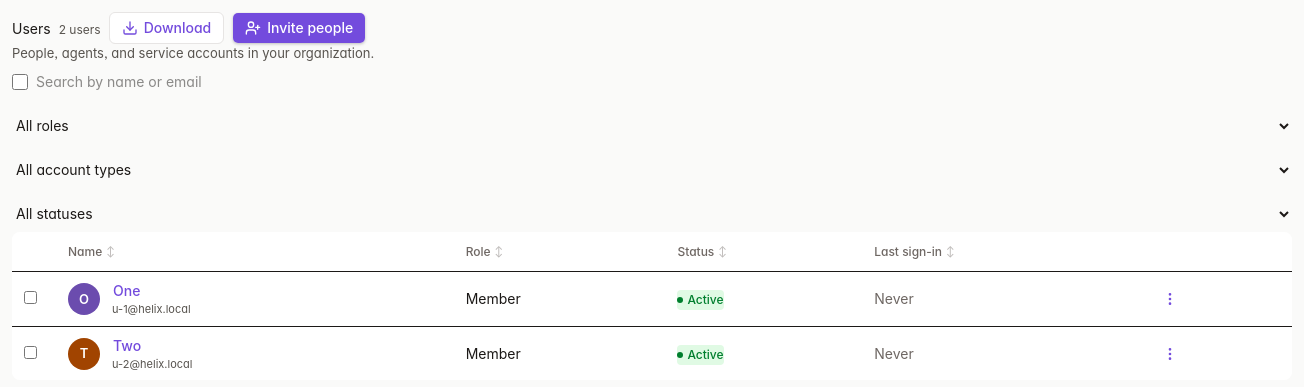
Test: AdminUsers › selects every listed user from the header checkbox
Click the checkbox named "Select all users". click: (20, 82)
box: x1=12 y1=74 x2=28 y2=90
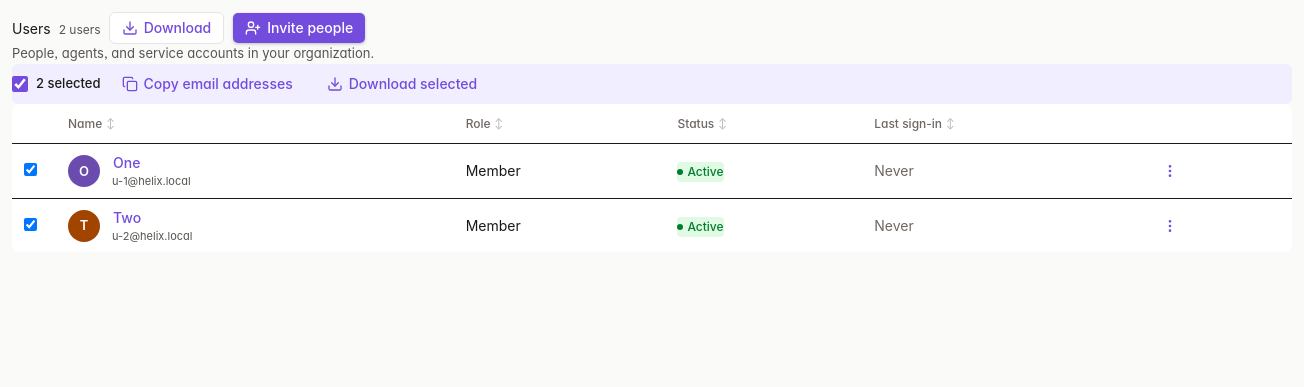
expect the text "2 selected" is shown: met, box x1=36 y1=74 x2=100 y2=93
expect the checkbox named "Select One" is checked: met, box x1=24 y1=163 x2=37 y2=176
expect the checkbox named "Select Two" is checked: met, box x1=24 y1=218 x2=37 y2=230
